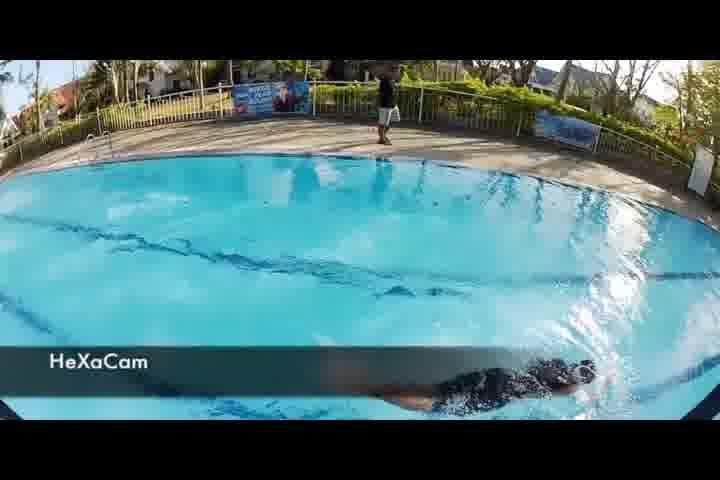human: (342, 362, 600, 418)
